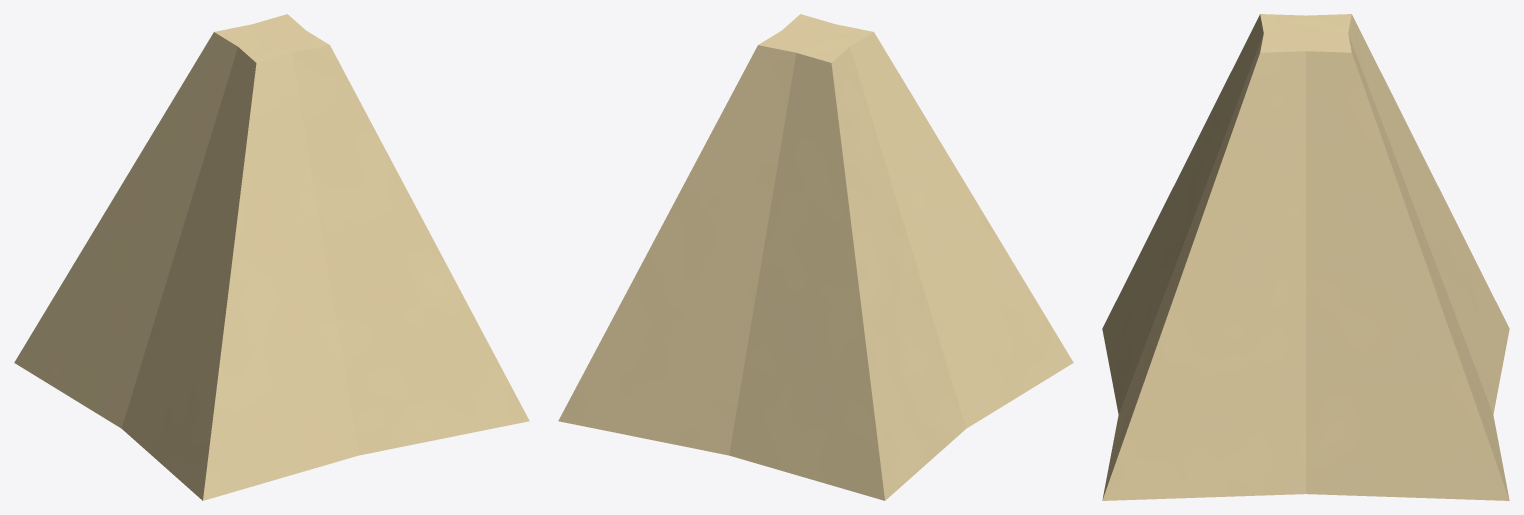
Rendered from runway-light.fbx.
The picture shows the model from 3 angles, left to right: view 1: azimuth 30°, elevation 25°; view 2: azimuth 150°, elevation 25°; view 3: azimuth 270°, elevation 25°; orthographic projection. The views are drawn at different scales.
Visible parts, largest first — view 1: runway-light; view 2: runway-light; view 3: runway-light.
Boxes of the visible parts, x1,y1,x2,y2 form: runway-light: [14, 14, 529, 500]; runway-light: [558, 14, 1073, 500]; runway-light: [1102, 14, 1509, 500].
Size of the model in its own units: 300 by 310 by 300.
Materials: 1 (1 with a texture image).
